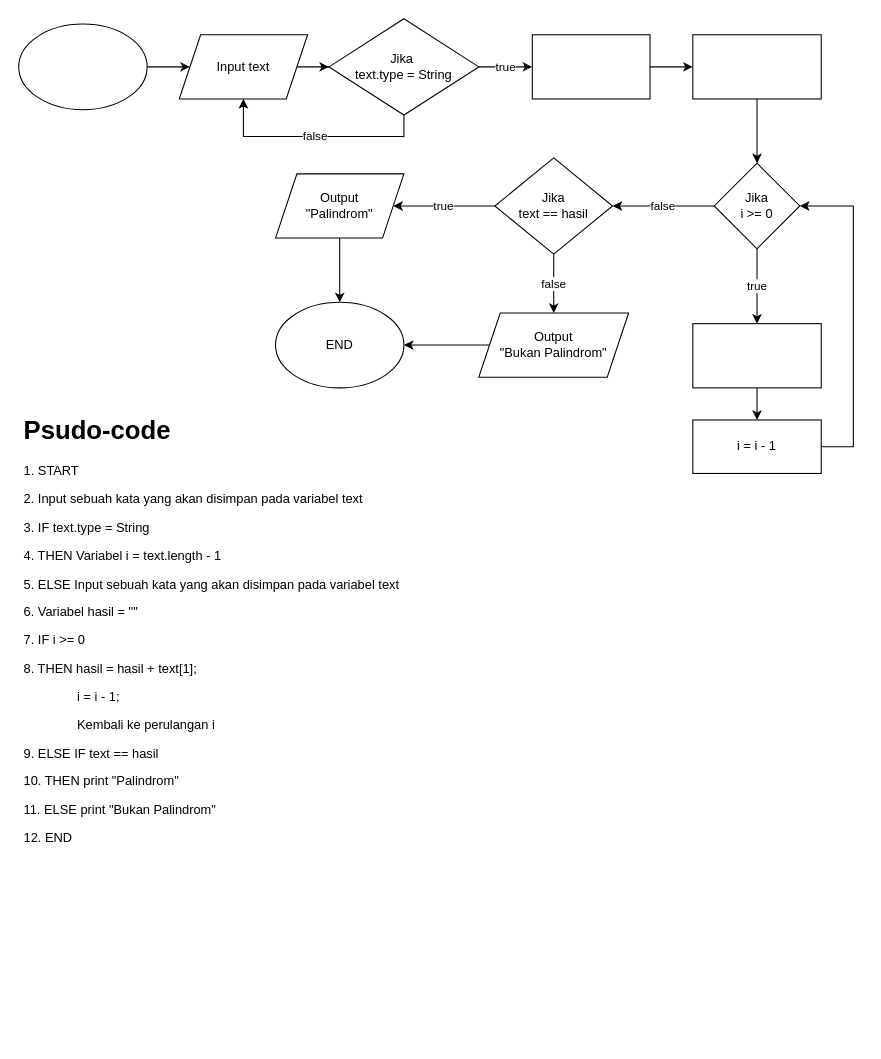
Some shapes in this 881 by 1059 pixel diagram are drawn without their labels. The shapes that lost their labels are listed below. From the top down, each one's centre as x and y in pixels, then its label:
point 82,66: START
point 590,66: i = text.length -1
point 756,66: hasil = ""
point 756,355: hasil = hasil + text[i]
